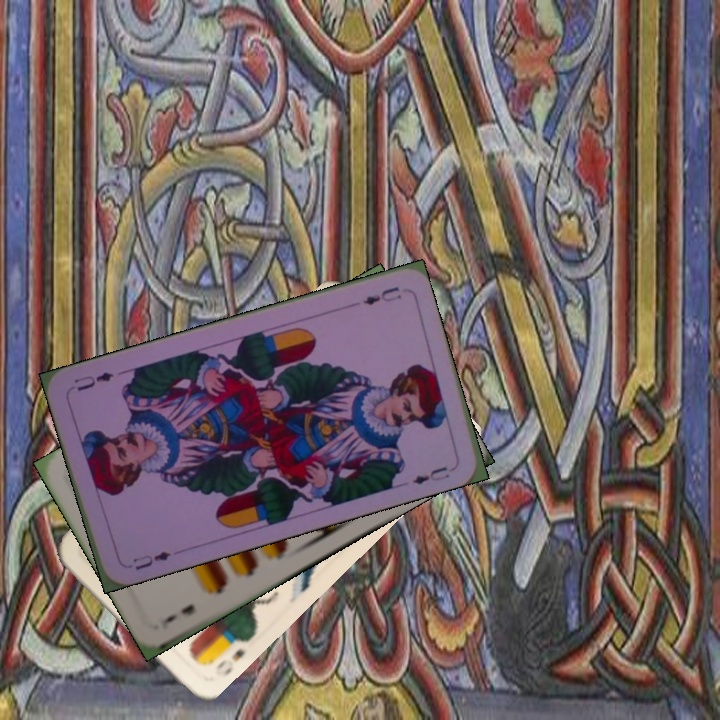E7: (156, 600, 198, 633)
EO: (211, 644, 248, 679)
EU: (128, 547, 174, 573), (359, 282, 404, 308)
